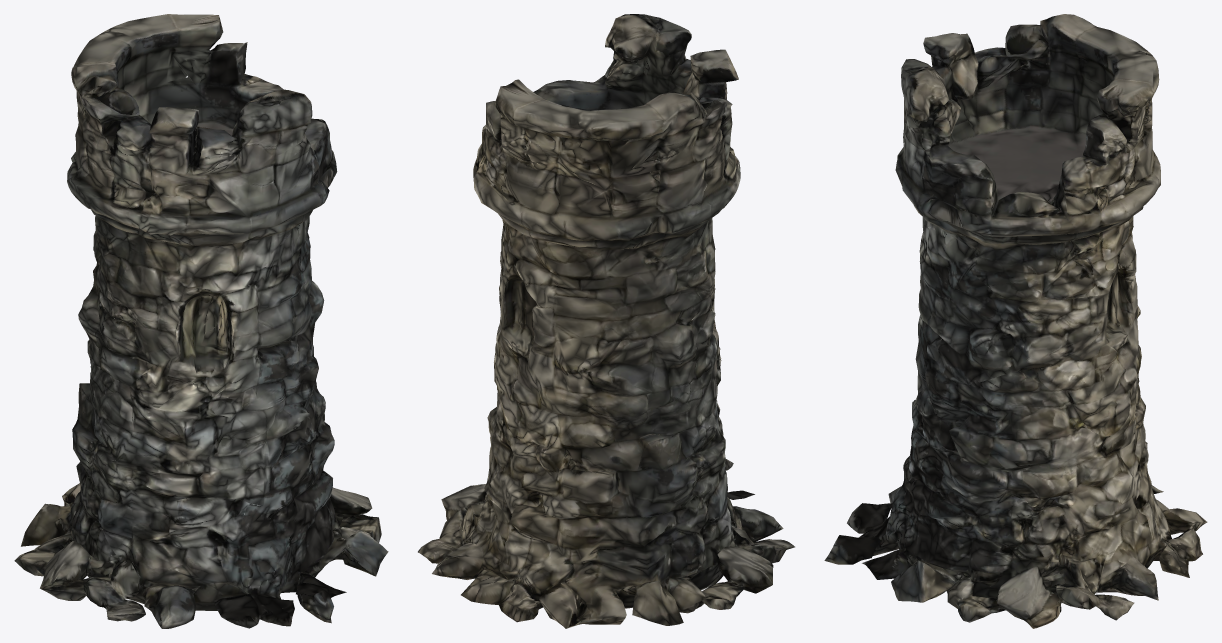
File: tower_ruin.glb
3 renders of one model, left to right at view 1: azimuth 30°, elevation 25°; view 2: azimuth 150°, elevation 25°; view 3: azimuth 270°, elevation 25°, orthographic.
Parts seen in each view (by area): view 1: tower_ruin.002; view 2: tower_ruin.002; view 3: tower_ruin.002.
Part boxes in pixels (x1=…): tower_ruin.002: x1=14, y1=14, x2=388, y2=628; tower_ruin.002: x1=418, y1=14, x2=794, y2=628; tower_ruin.002: x1=824, y1=14, x2=1207, y2=628.
Bounding box in the file's own units: 15.91 × 23 × 16.19.
1 material, 1 textured.
